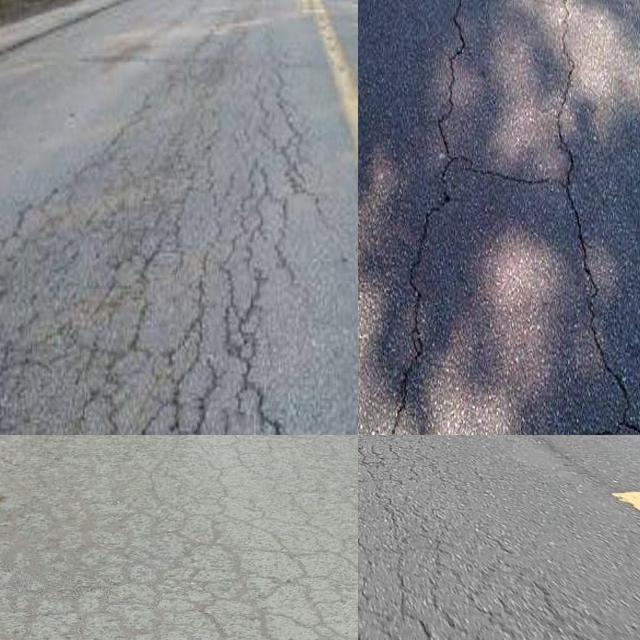Melintang: (411, 145, 602, 200)
Memanjang: (380, 0, 491, 435), (546, 0, 640, 435)
Retak Buaya: (0, 52, 307, 435), (0, 564, 346, 640), (358, 557, 631, 640)
